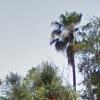Tree: (33, 4, 100, 80)
